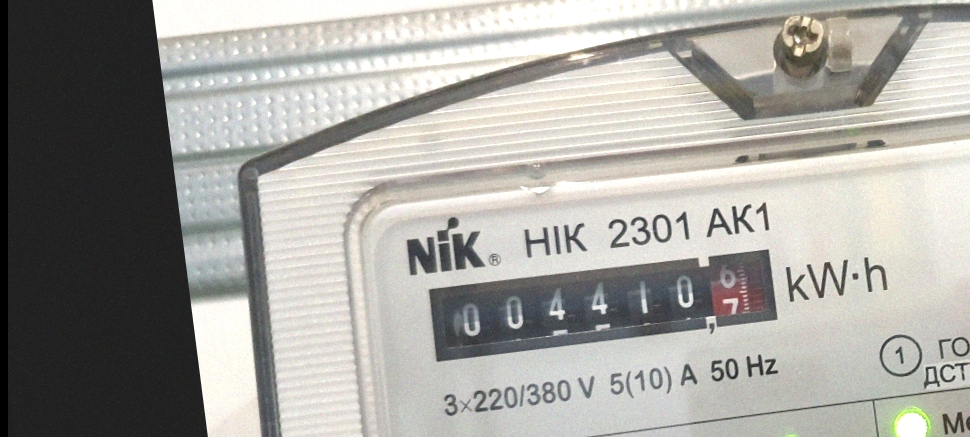0: (458, 298, 484, 339), (673, 272, 697, 310), (503, 291, 525, 331)
1: (634, 277, 652, 316)
4: (543, 282, 569, 323), (586, 278, 612, 319)
6: (719, 262, 739, 290)
7: (721, 294, 742, 316)
screen: (415, 232, 792, 376)
